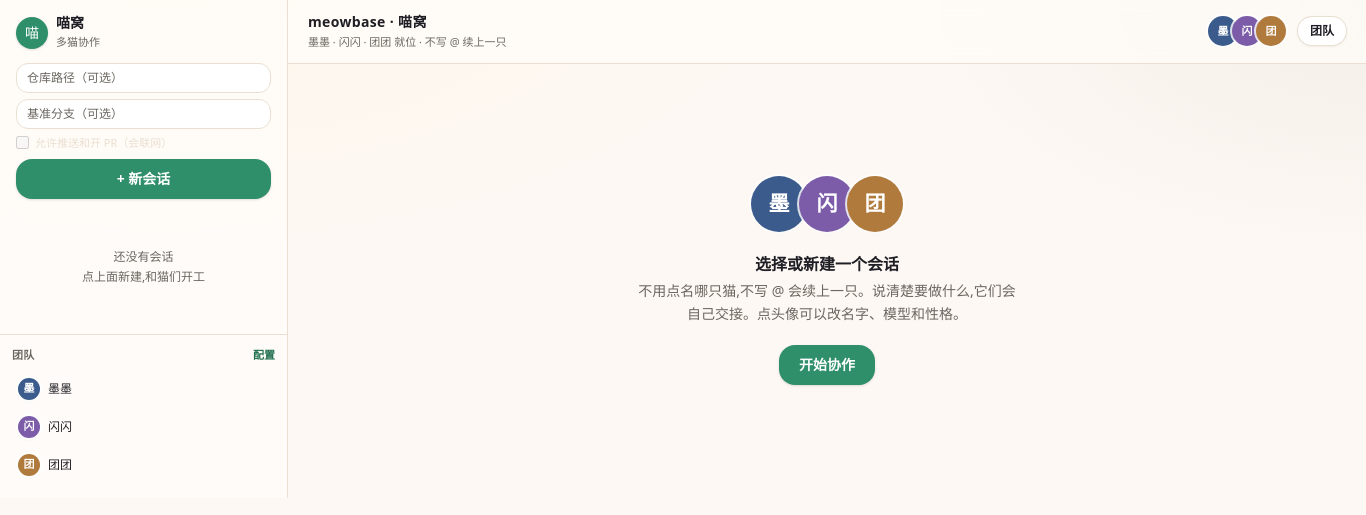
Scenario: Home 建会话 › 建会话 403 时展示允许的根
The width and height of the screenshot is (1366, 515).
expect the button "+ 新会话" is shown: met, box [16, 159, 271, 199]
Type "/etc/secret" into the field with placeholder "仓库路径（可选）".
click(144, 78); type("/etc/secret")  # box [16, 62, 271, 92]
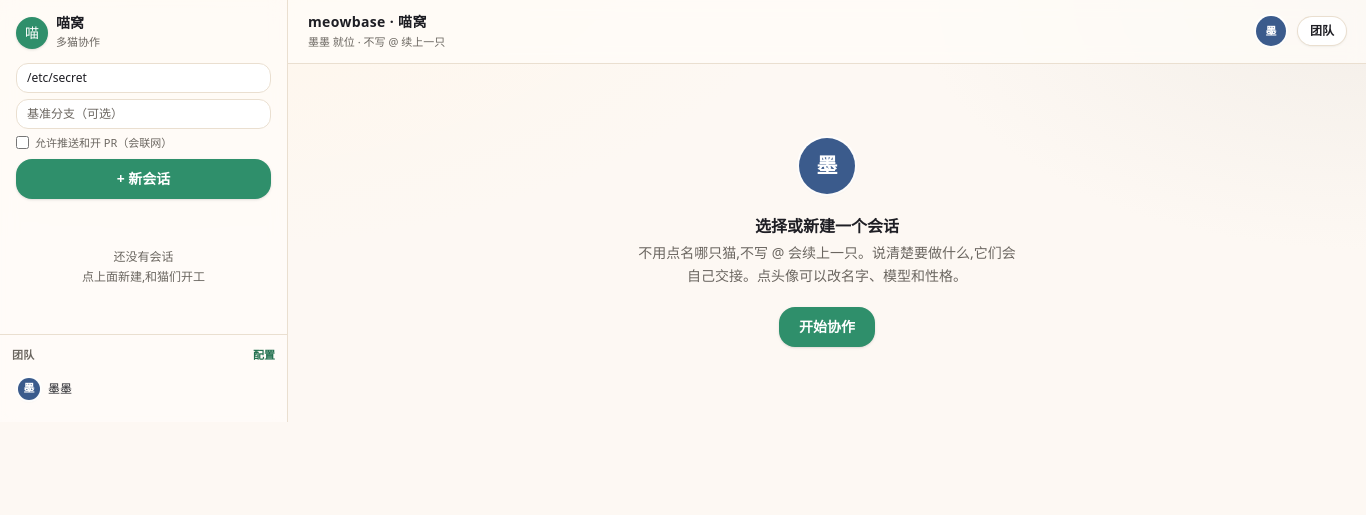
Click the button "+ 新会话".
click(144, 179)  # box [16, 159, 271, 199]
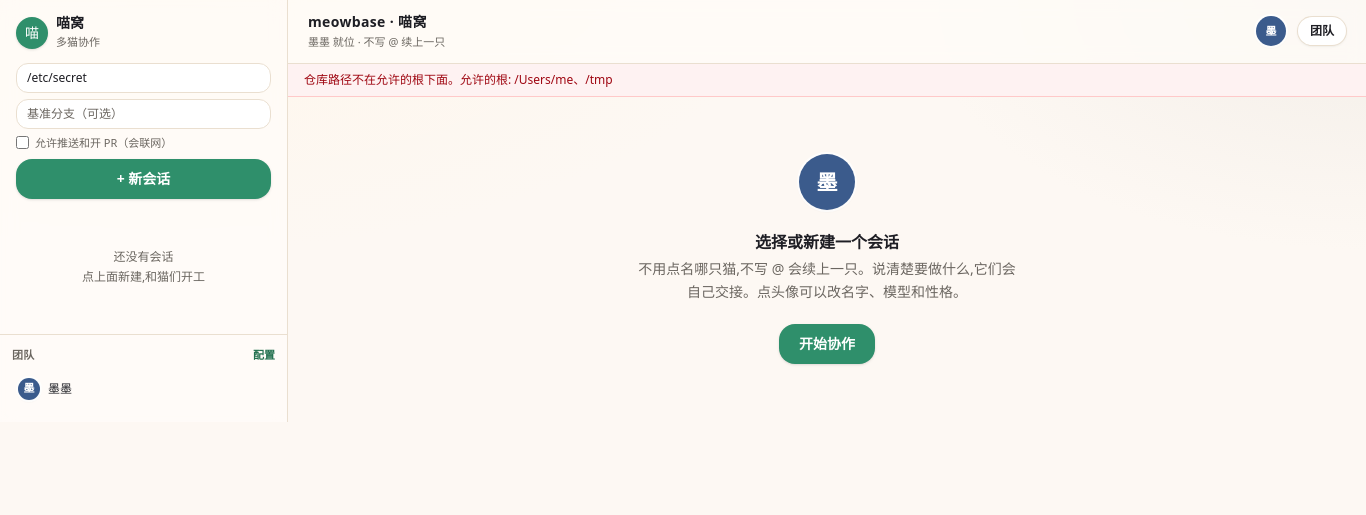
expect the text "仓库路径不在允许的根下面。允许的根: /Users/me、/tmp" is shown: met, box [288, 64, 1365, 96]
